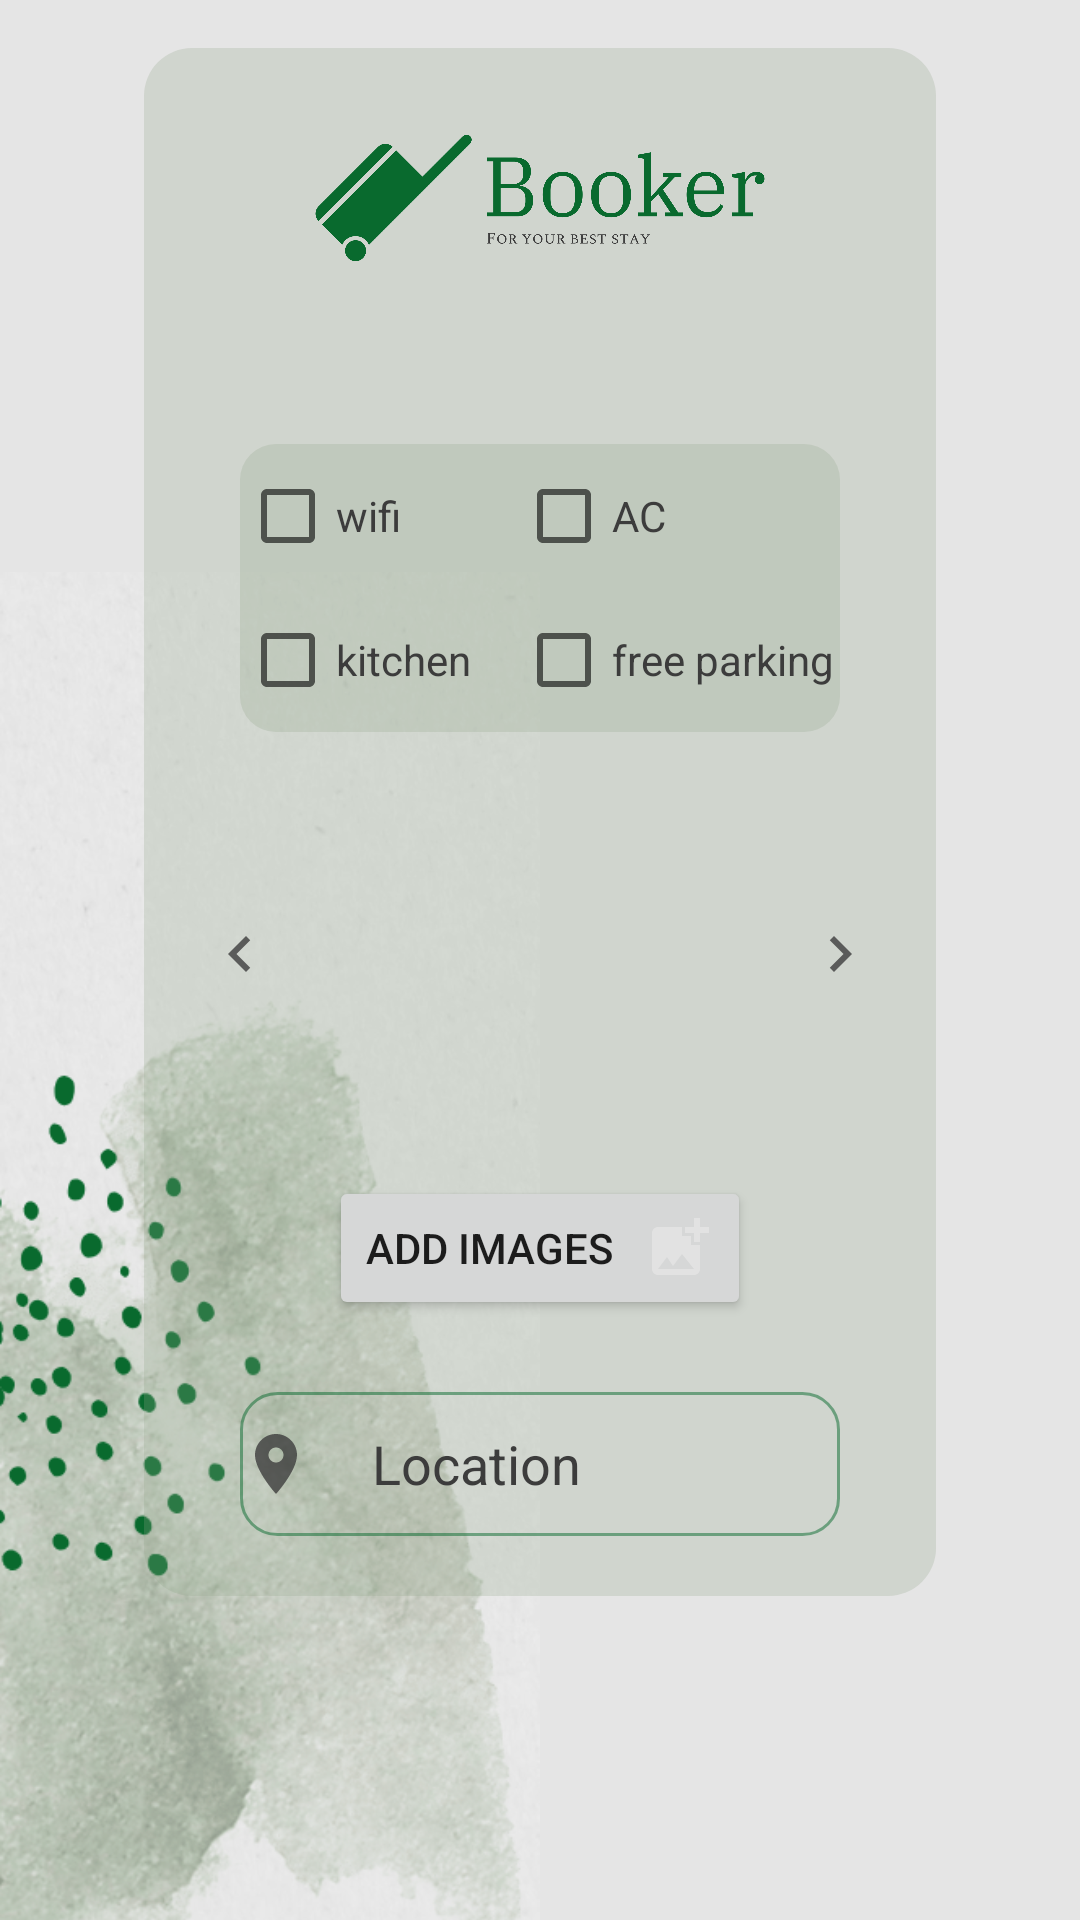

Screen size 1080px x 1920px. Icon name, then its center in pixels as (x,y):
navigate next: (841,954)
